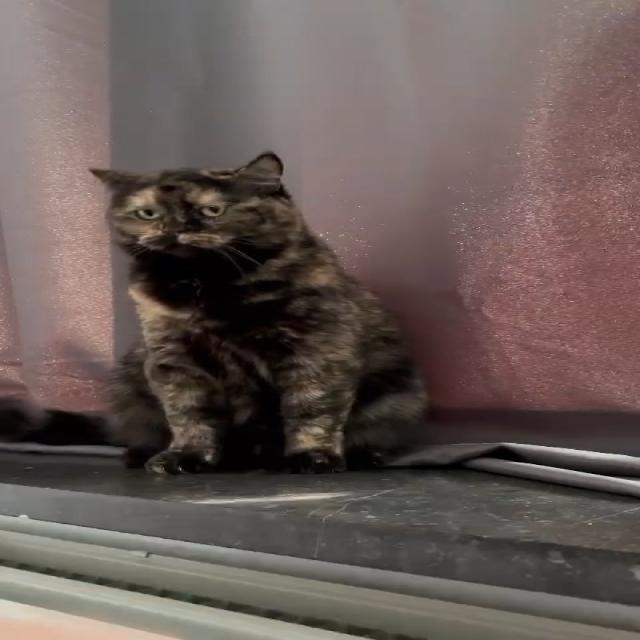authorized: (87, 151, 430, 475)
